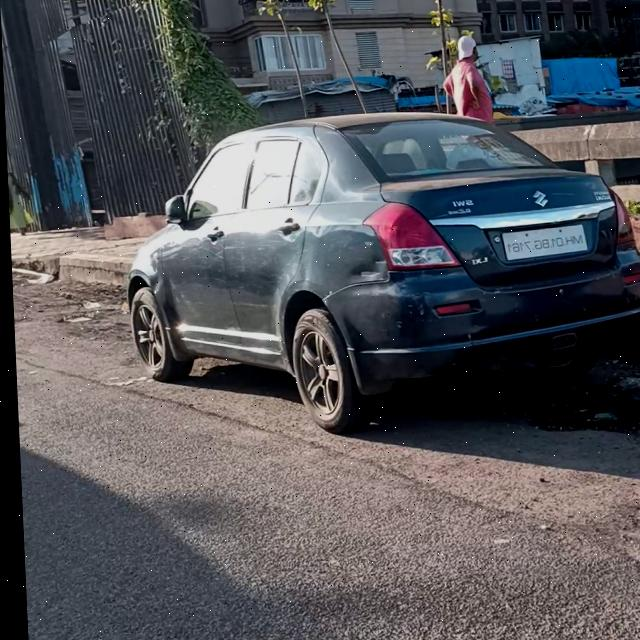plate: (494, 216, 591, 264)
